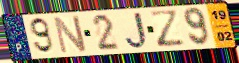2: (91, 13, 121, 52)
9: (183, 6, 212, 48), (28, 17, 55, 56)
J: (124, 11, 149, 51)
N: (52, 14, 89, 56)
Z: (148, 9, 188, 49)
